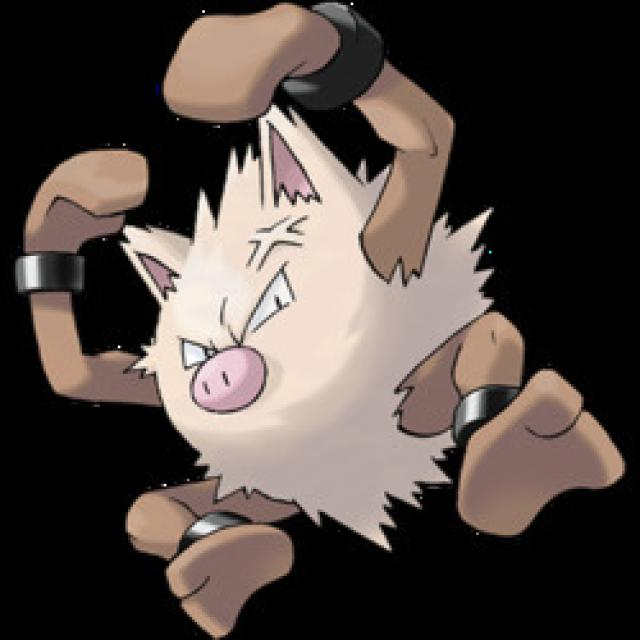Primeape: (46, 61, 490, 551)
